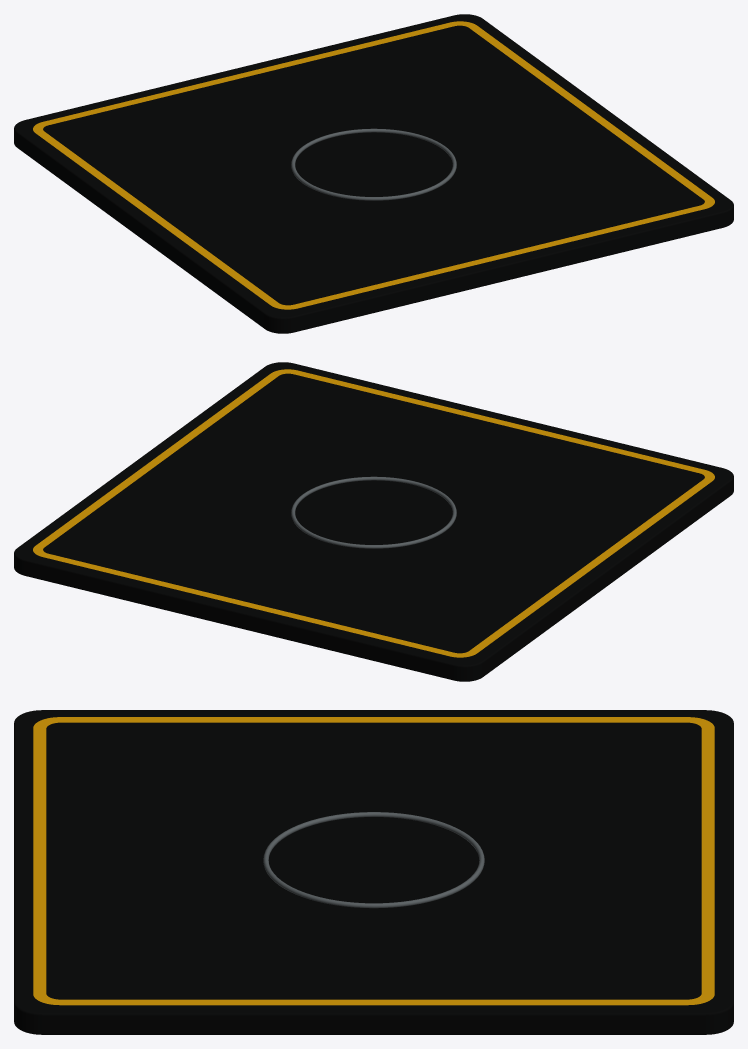
File: panel.obj
The picture shows the model from 3 angles, top to bottom: view 1: azimuth 30°, elevation 25°; view 2: azimuth 150°, elevation 25°; view 3: azimuth 270°, elevation 25°; orthographic projection. The views are drawn at different scales.
Visible parts, largest first — view 1: Основание_платформы, Жёлтый_периметр, Центральная_окружность; view 2: Основание_платформы, Жёлтый_периметр, Центральная_окружность; view 3: Основание_платформы, Жёлтый_периметр, Центральная_окружность.
Boxes of the visible parts, <box> form: Основание_платформы: <box>14,14,733,333</box>; Жёлтый_периметр: <box>33,21,714,309</box>; Центральная_окружность: <box>291,128,456,200</box>; Основание_платформы: <box>14,362,733,681</box>; Жёлтый_периметр: <box>33,369,714,657</box>; Центральная_окружность: <box>291,476,456,548</box>; Основание_платформы: <box>14,710,733,1034</box>; Жёлтый_периметр: <box>33,717,714,1005</box>; Центральная_окружность: <box>263,812,484,908</box>.
Size of the model in its own units: 0.3 by 0.0116 by 0.3.
